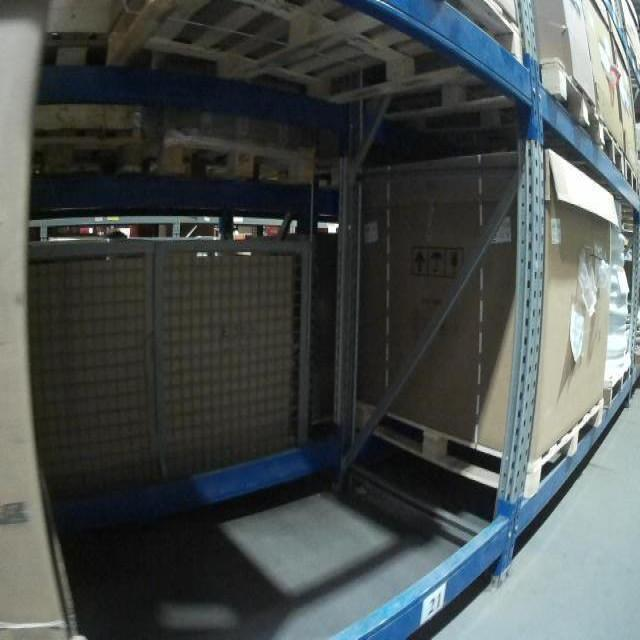pallet: (104, 2, 530, 104), (356, 379, 605, 517), (363, 58, 606, 159), (601, 355, 636, 413), (601, 117, 625, 189), (625, 153, 638, 203)
stillage: (129, 229, 316, 487), (22, 233, 159, 499)
